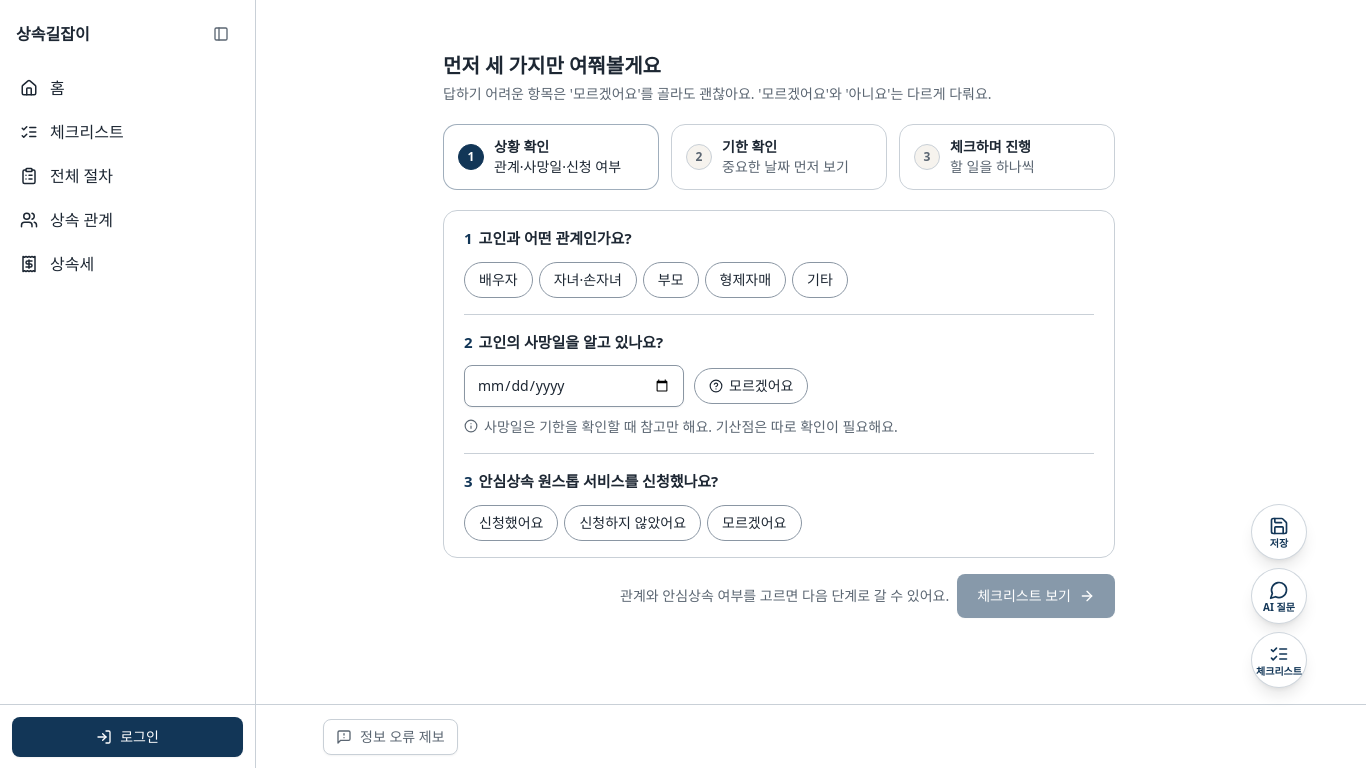
W-01 → W-02 › 관계와 안심상속을 고르기 전에는 [체크리스트 보기]가 막히고 이유를 보인다
The image size is (1366, 768).
expect the button "체크리스트 보기" is disabled: met, box [957, 574, 1115, 618]
expect the text "관계와 안심상속 여부를 고르면 다음 단계로 갈 수 있어요." is shown: met, box [620, 586, 949, 606]
Click the radio button labelled "배우자". click: (498, 280)
box: [464, 262, 533, 298]
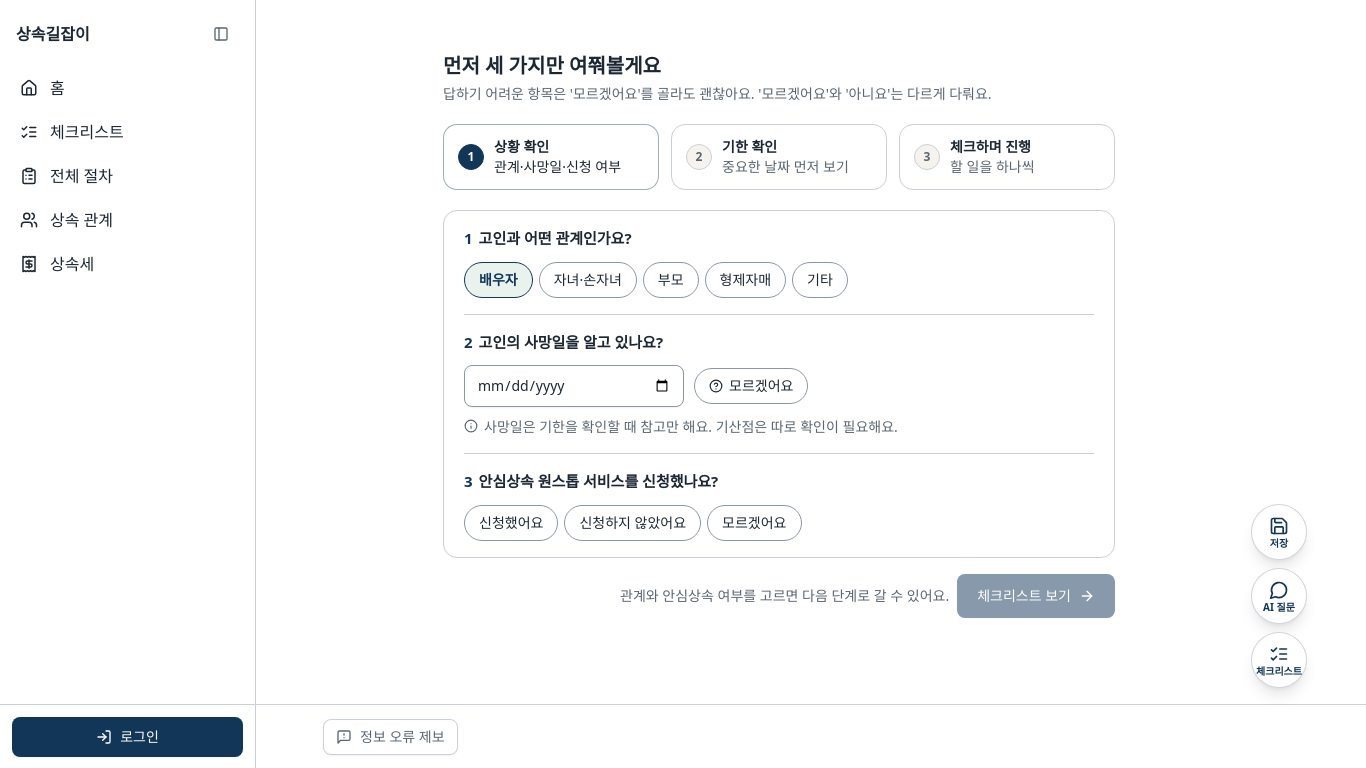
expect the button "체크리스트 보기" is disabled: met, box [957, 574, 1115, 618]
Click the radio button labelled "모르겠어요". click: (754, 522)
box: [707, 504, 802, 540]
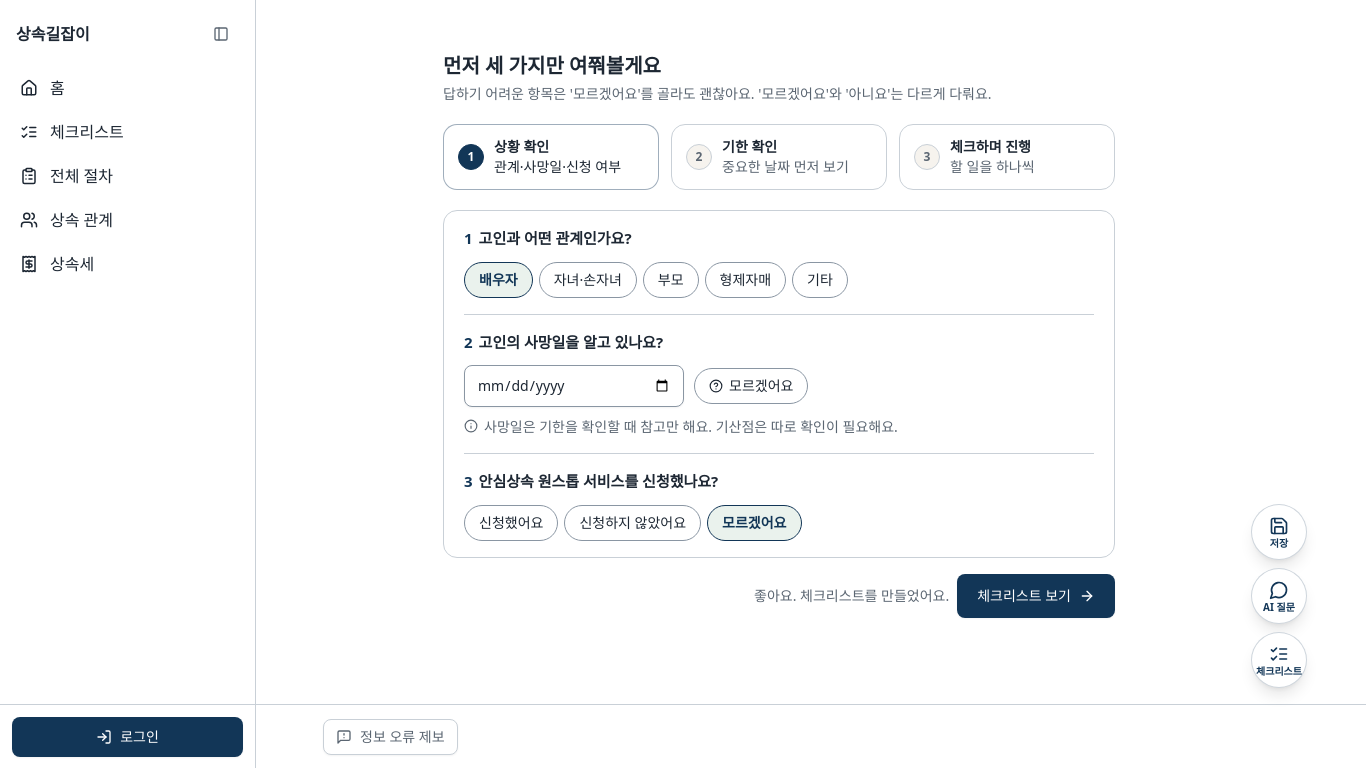
expect the button "체크리스트 보기" is enabled: met, box [957, 574, 1115, 618]
expect the text "좋아요. 체크리스트를 만들었어요." is shown: met, box [754, 586, 949, 606]
